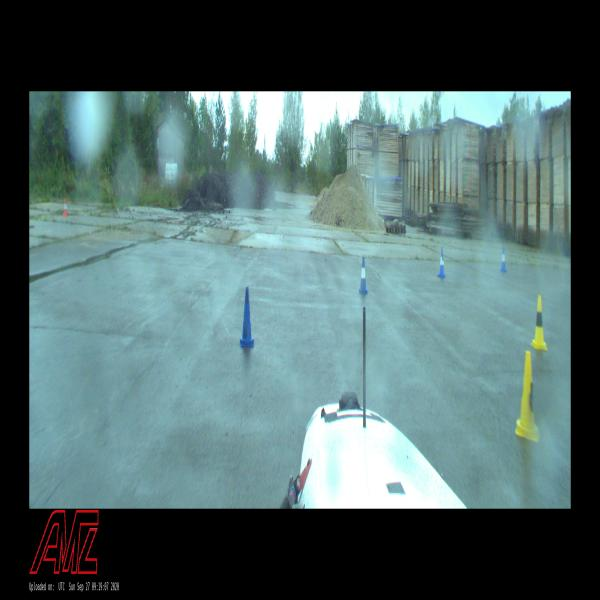blue_cone: (240, 287, 255, 347), (359, 257, 368, 294), (438, 249, 446, 278), (500, 246, 506, 272)
orange_cone: (63, 199, 67, 215)
yellow_cone: (516, 350, 538, 442), (531, 296, 547, 350)
